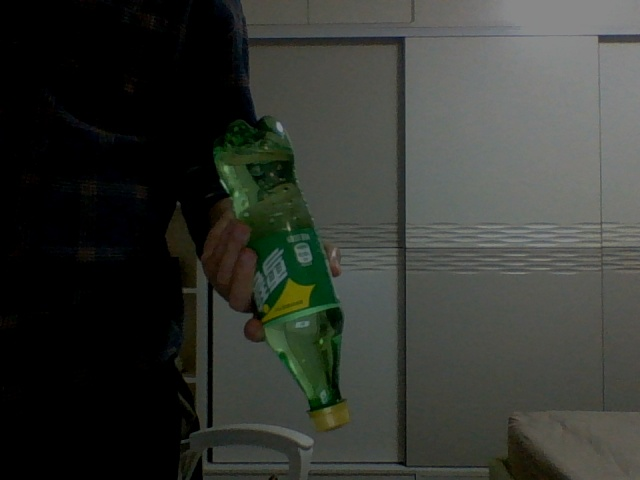Sprite: (213, 117, 349, 430)
